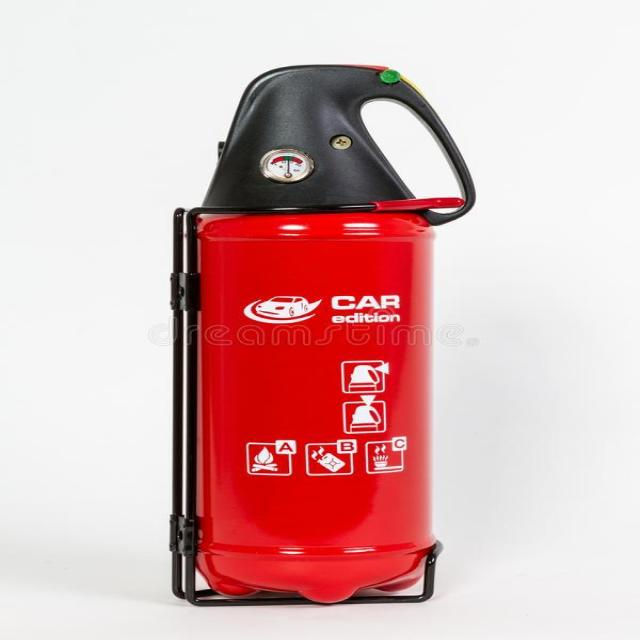fire_extinguisher: (166, 62, 477, 610)
